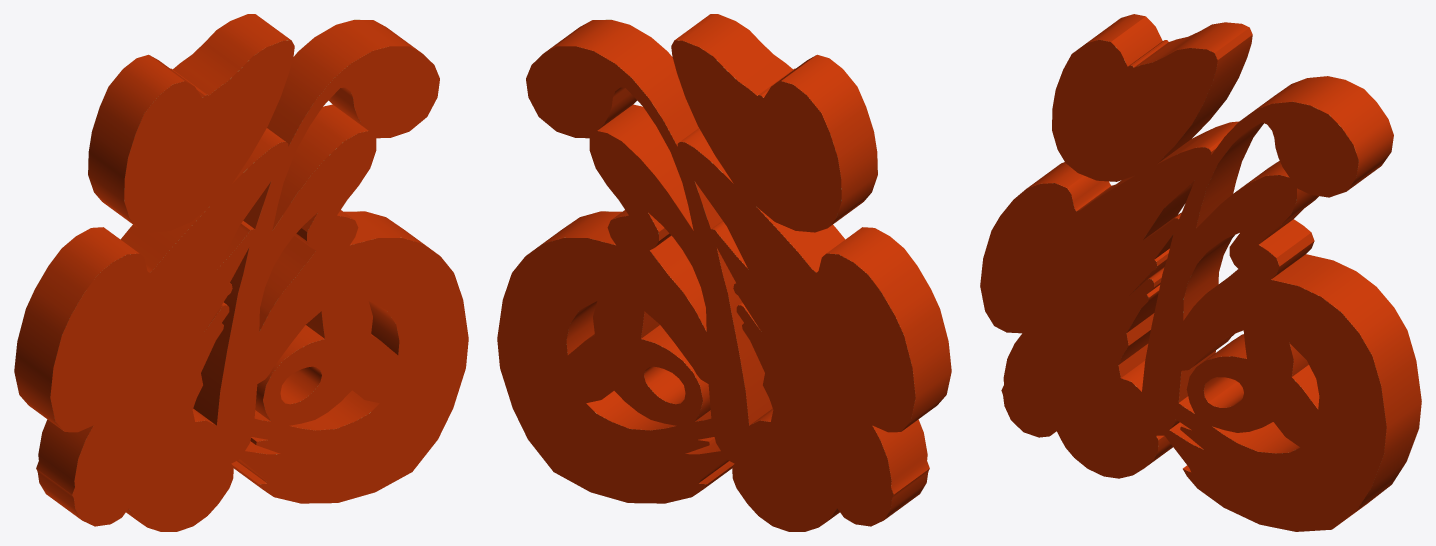
The picture shows the model from 3 angles, left to right: view 1: azimuth 30°, elevation 25°; view 2: azimuth 150°, elevation 25°; view 3: azimuth 330°, elevation 25°; orthographic projection. The views are drawn at different scales.
Visible parts, largest first — view 1: pasted__polySurface1; view 2: pasted__polySurface1; view 3: pasted__polySurface1.
Part boxes in pixels (<box>): pasted__polySurface1: <box>14,14,468,531</box>; pasted__polySurface1: <box>497,14,951,531</box>; pasted__polySurface1: <box>980,14,1421,531</box>.
Bounding box in the file's own units: 66.85 × 72.63 × 10.
